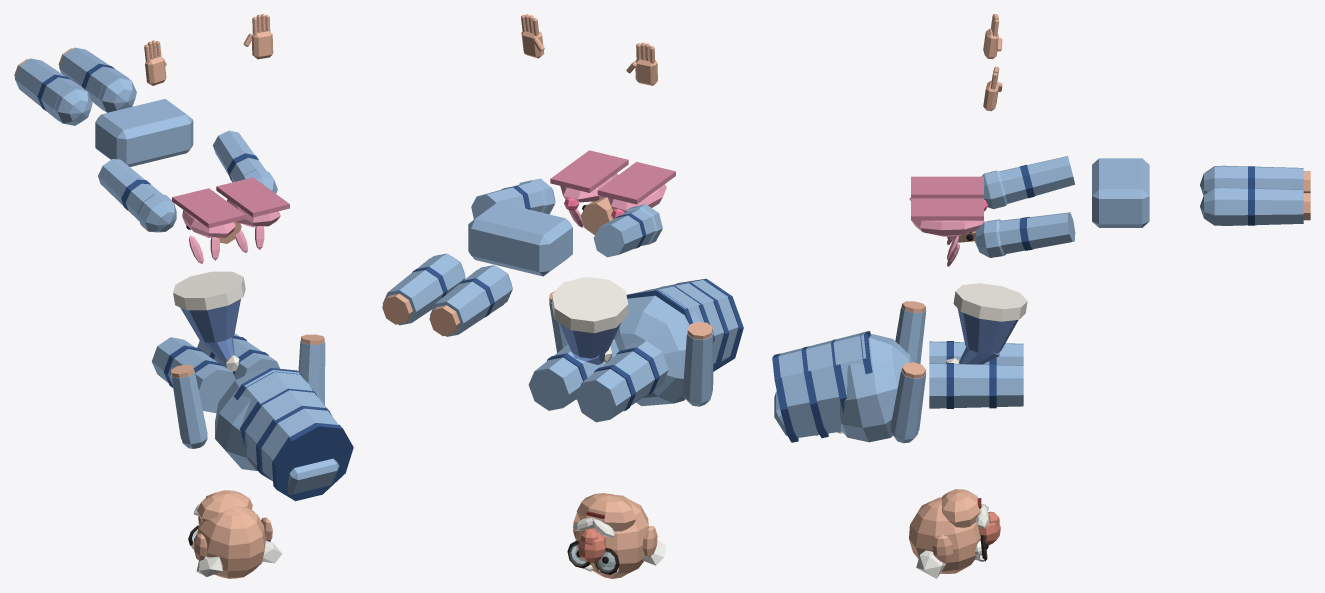
File: oldMan.fbx
3 renders of one model, left to right at view 1: azimuth 30°, elevation 25°; view 2: azimuth 150°, elevation 25°; view 3: azimuth 270°, elevation 25°, orthographic. The views are drawn at different scales.
Parts seen in each view (by area): view 1: spine, head, hips, cap, shinR, upperArmR, shinL, thighR, footR, footL, foreArmR, upperArmL (+4 smaller); view 2: spine, head, hips, cap, thighR, shinR, shinL, thighL, footL, footR, upperArmR, foreArmR (+4 smaller); view 3: spine, head, cap, thighL, hips, shinL, upperArmL, upperArmR, footL, shinR, foreArmL, footR (+2 smaller).
Part boxes in pixels (bbox=[...]): spine: bbox=[215, 368, 353, 501]; head: bbox=[188, 490, 282, 578]; hips: bbox=[95, 99, 193, 166]; cap: bbox=[173, 271, 245, 371]; shinR: bbox=[14, 58, 92, 125]; upperArmR: bbox=[98, 159, 176, 232]; shinL: bbox=[58, 47, 136, 112]; thighR: bbox=[151, 337, 235, 413]; footR: bbox=[172, 188, 245, 263]; footL: bbox=[216, 177, 289, 252]; foreArmR: bbox=[171, 364, 207, 448]; upperArmL: bbox=[212, 130, 277, 193]; spine: bbox=[614, 278, 743, 406]; head: bbox=[567, 493, 665, 578]; hips: bbox=[468, 202, 572, 276]; cap: bbox=[552, 277, 628, 364]; thighR: bbox=[576, 341, 668, 422]; shinR: bbox=[429, 265, 512, 336]; shinL: bbox=[382, 253, 465, 325]; thighL: bbox=[528, 339, 618, 410]; footL: bbox=[550, 150, 628, 227]; footR: bbox=[597, 162, 675, 219]; upperArmR: bbox=[593, 204, 662, 257]; foreArmR: bbox=[682, 321, 713, 406]; spine: bbox=[772, 331, 912, 442]; head: bbox=[909, 489, 1000, 578]; cap: bbox=[946, 283, 1027, 364]; thighL: bbox=[929, 362, 1023, 408]; hips: bbox=[1092, 158, 1149, 227]; shinL: bbox=[1200, 187, 1310, 225]; upperArmL: bbox=[975, 212, 1075, 257]; upperArmR: bbox=[981, 156, 1074, 209]; footL: bbox=[911, 198, 984, 266]; shinR: bbox=[1200, 165, 1310, 195]; foreArmL: bbox=[890, 362, 926, 443]; footR: bbox=[909, 176, 987, 245].
Size of the model in its own units: 2.88 by 9.6 by 8.86.
